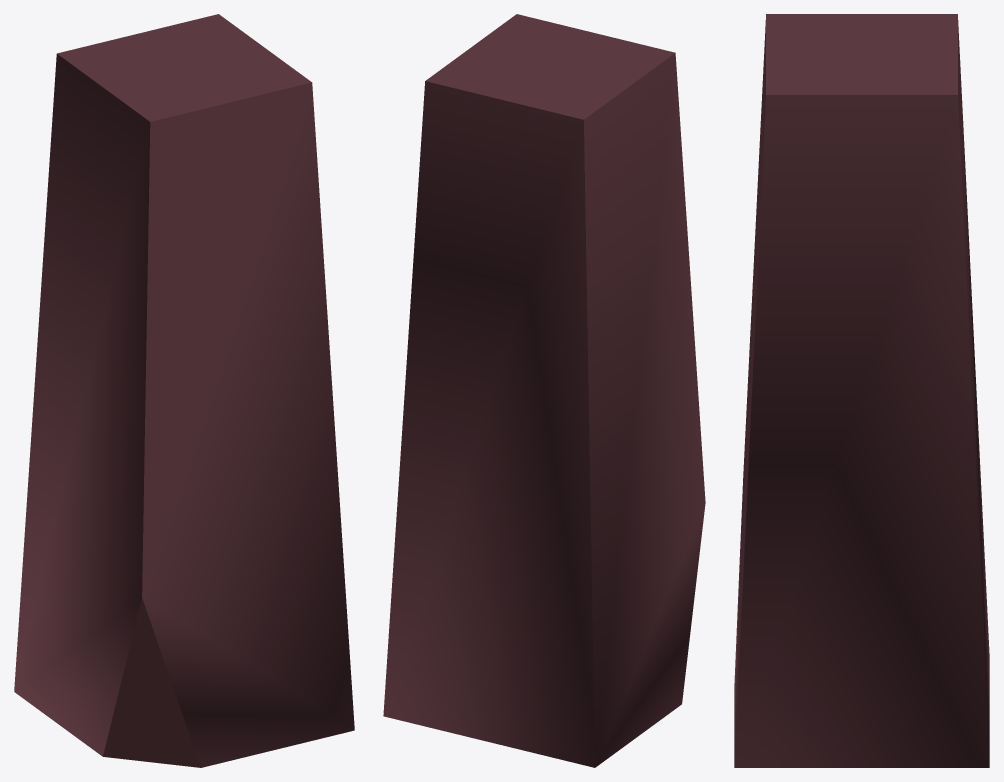
Rendered from obelisc2.fbx.
The picture shows the model from 3 angles, left to right: view 1: azimuth 30°, elevation 25°; view 2: azimuth 150°, elevation 25°; view 3: azimuth 270°, elevation 25°; orthographic projection. The views are drawn at different scales.
Parts seen in each view (by area): view 1: obelisk-old.004; view 2: obelisk-old.004; view 3: obelisk-old.004.
Part boxes in pixels (x1=…): obelisk-old.004: x1=14, y1=14, x2=354, y2=767; obelisk-old.004: x1=383, y1=14, x2=705, y2=767; obelisk-old.004: x1=734, y1=14, x2=989, y2=767.
Size of the model in its own units: 173 by 493 by 173.
